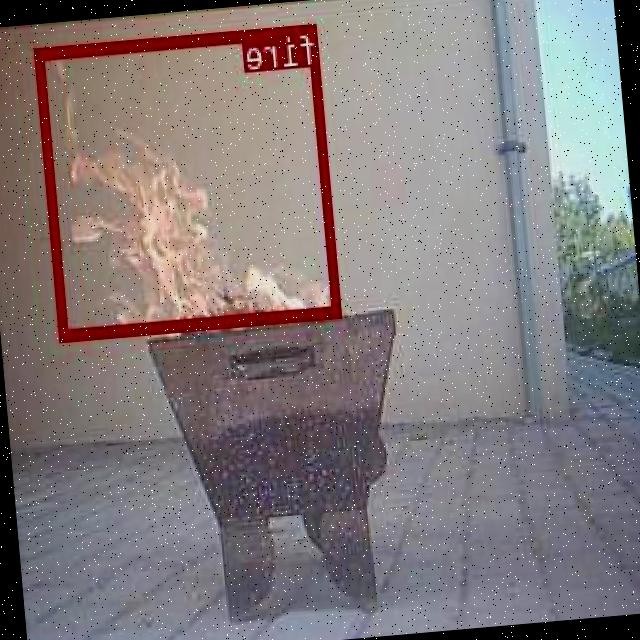fire: (35, 22, 342, 340)
